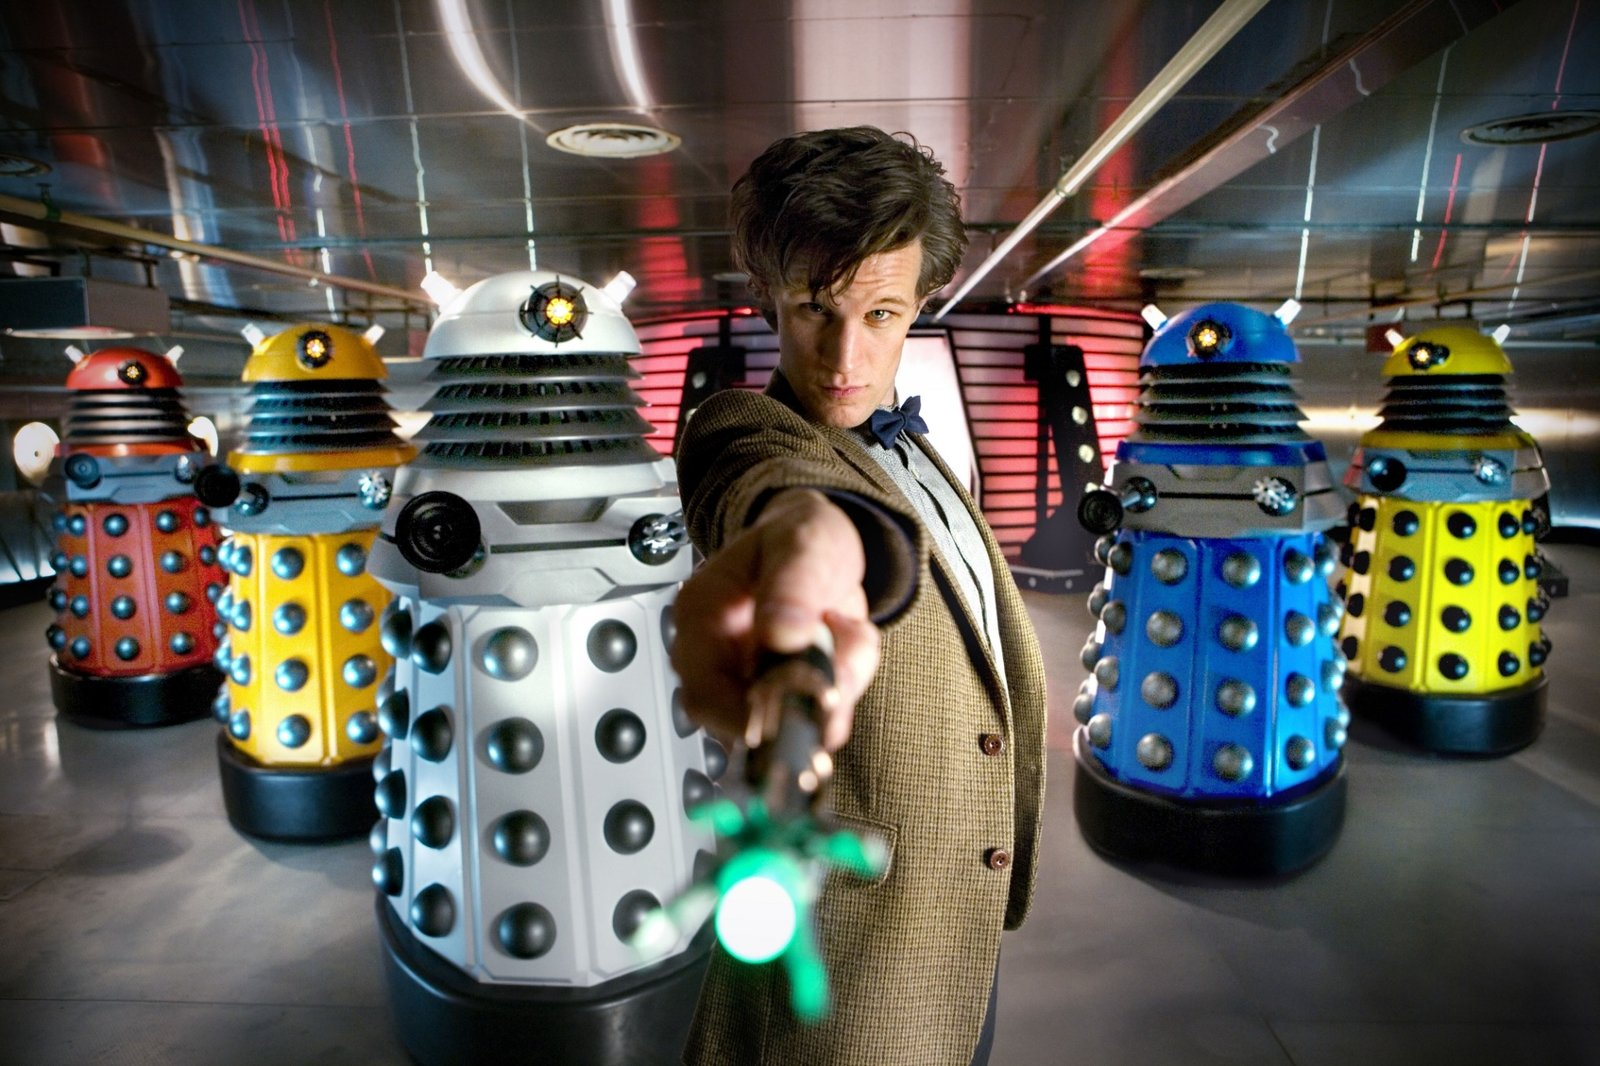dalek: (351, 169, 701, 1066), (1025, 284, 1349, 933), (158, 252, 446, 761), (1301, 328, 1586, 777), (0, 249, 195, 675)
